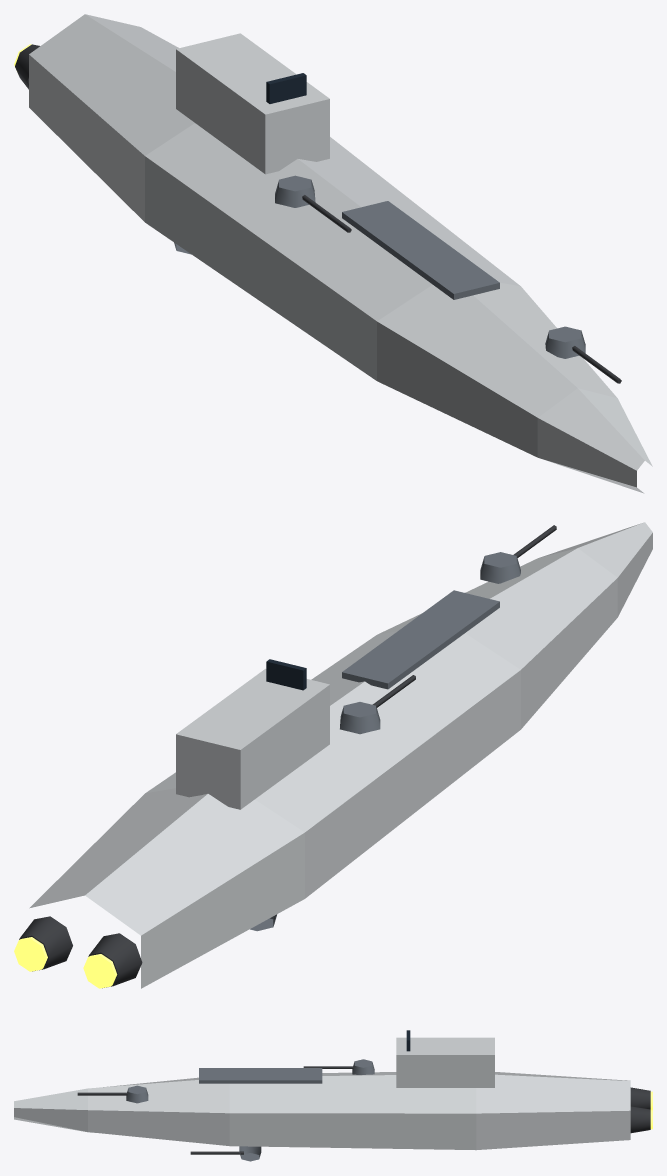
The model's file is space_ship_frigate_mk2.glb.
3 views of the same model, one above another, from view 1: azimuth 30°, elevation 25°; view 2: azimuth 150°, elevation 25°; view 3: azimuth 270°, elevation 25° (orthographic). The views are drawn at different scales.
Visible parts, largest first — view 1: body, turret_2, turret_0; view 2: body, engine_1, engine_0, turret_2, turret_0; view 3: body, engine_1, turret_0, turret_1, turret_2, engine_0.
Boxes of the visible parts, x1,y1,x2,y2 form: body: [29, 14, 652, 493]; turret_2: [275, 175, 351, 232]; turret_0: [545, 326, 621, 383]; body: [29, 522, 652, 988]; engine_1: [14, 916, 72, 971]; engine_0: [83, 933, 142, 988]; turret_2: [340, 675, 415, 734]; turret_0: [480, 525, 556, 583]; body: [14, 1030, 630, 1150]; engine_1: [630, 1106, 652, 1133]; turret_0: [77, 1085, 148, 1103]; turret_1: [190, 1146, 261, 1161]; turret_2: [303, 1059, 374, 1074]; engine_0: [630, 1087, 652, 1109].
Size of what is drawn, in the model's own units: 5.54 by 6.8 by 34.82.
